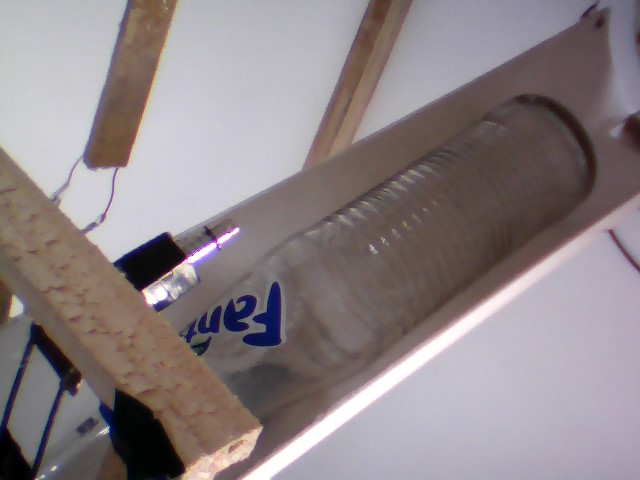vidrio: (162, 89, 601, 405)
